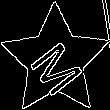M_NE: (23, 27, 88, 94)
